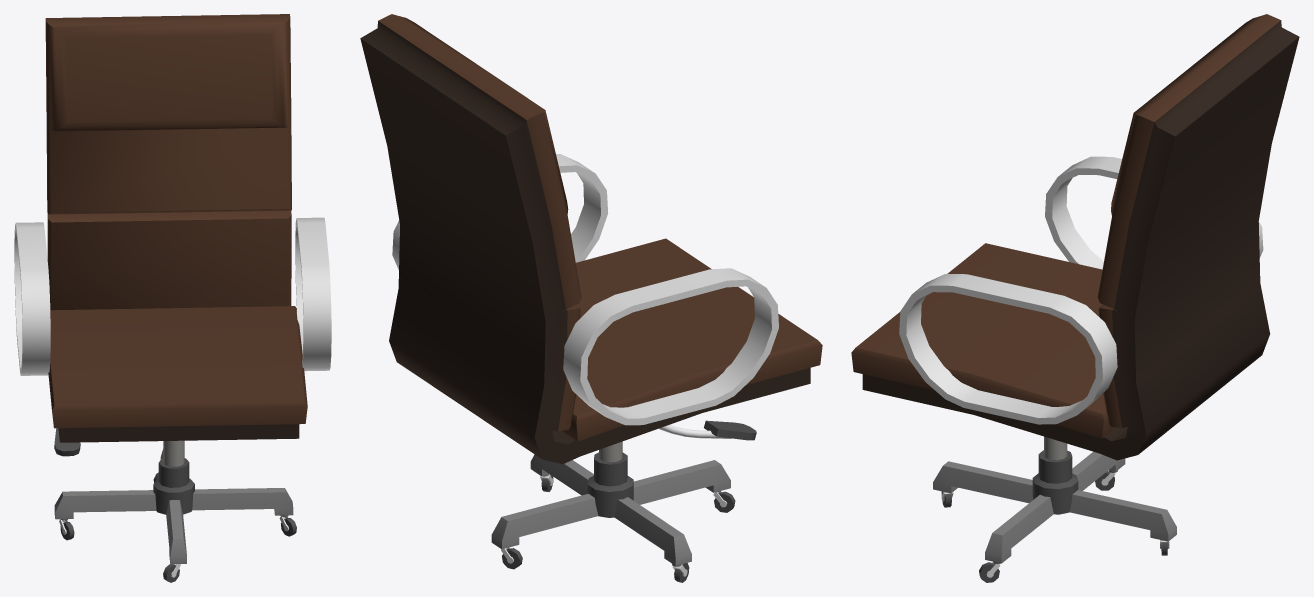
Rendered from chair.glb.
3 renders of one model, left to right at view 1: azimuth 30°, elevation 25°; view 2: azimuth 150°, elevation 25°; view 3: azimuth 270°, elevation 25°, orthographic. The views are drawn at different scales.
Visible parts, largest first — view 1: Cube.021; view 2: Cube.021; view 3: Cube.021.
Part boxes in pixels (left/top/right/bottom): Cube.021: left=14, top=14, right=331, bottom=582; Cube.021: left=360, top=14, right=822, bottom=582; Cube.021: left=851, top=14, right=1299, bottom=582.
Size of the model in its own units: 1.19 by 1.59 by 1.28.
